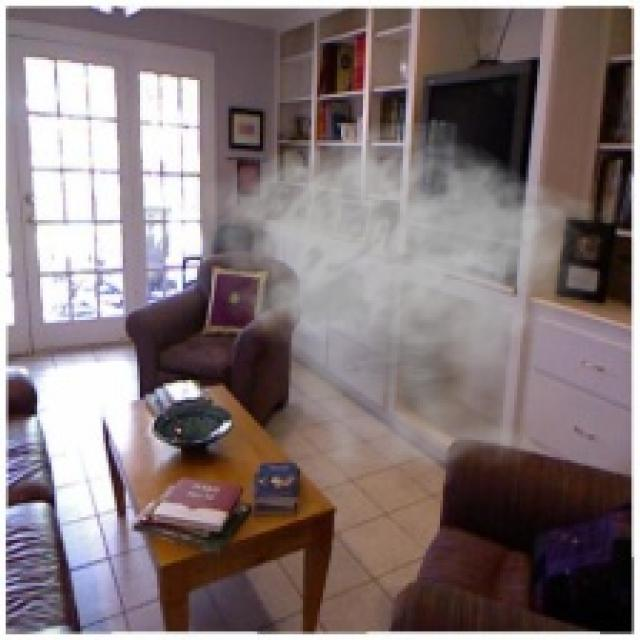smoke: (194, 120, 612, 503)
